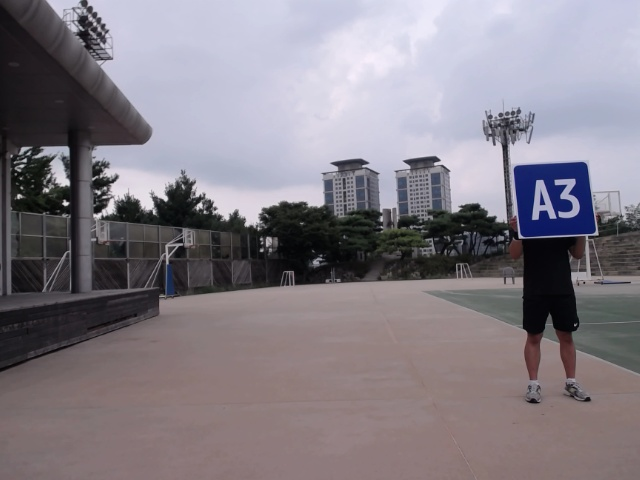delivery_a3: (512, 161, 598, 238)
